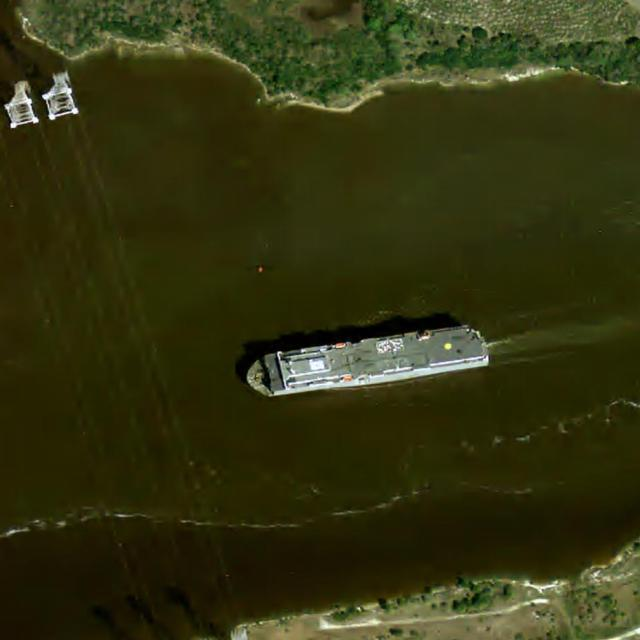RoRo: (239, 320, 489, 405)
